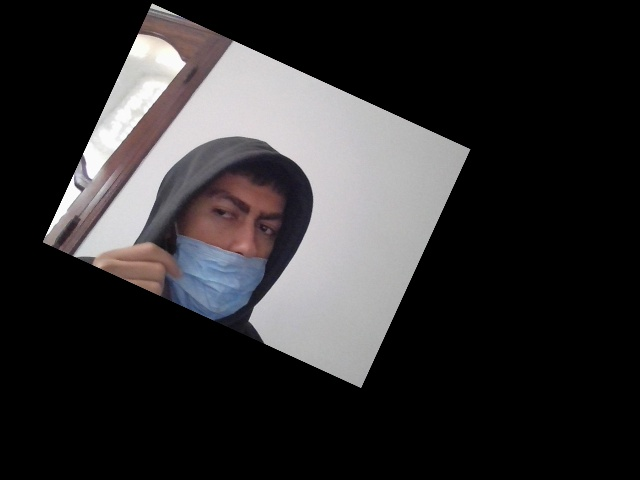mask_weared_incorrect: (180, 160, 285, 322)
